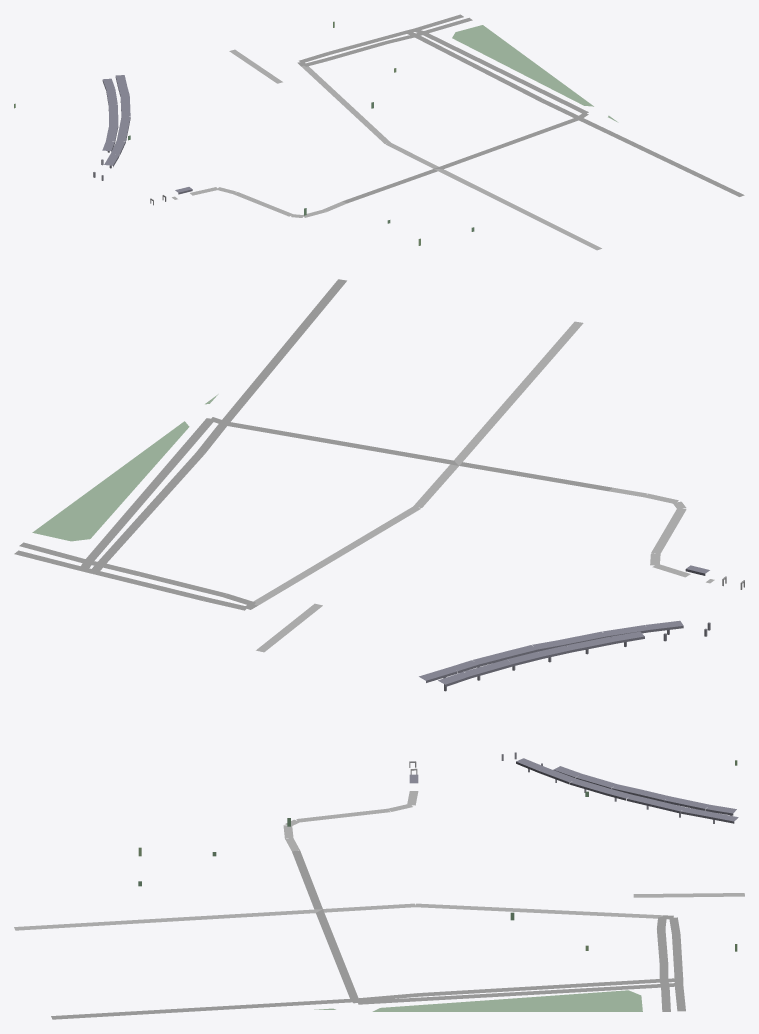
3 views of the same model, one above another, from view 1: azimuth 30°, elevation 25°; view 2: azimuth 150°, elevation 25°; view 3: azimuth 270°, elevation 25° (orthographic). The views are drawn at different scales.
Bounding box in the file's own units: 520 × 11.23 × 589.
